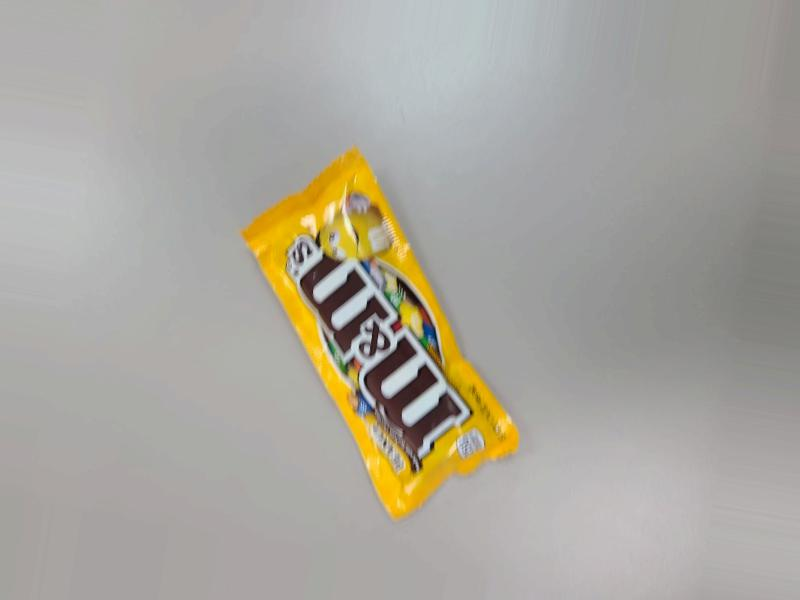m&m: (245, 157, 531, 523)
